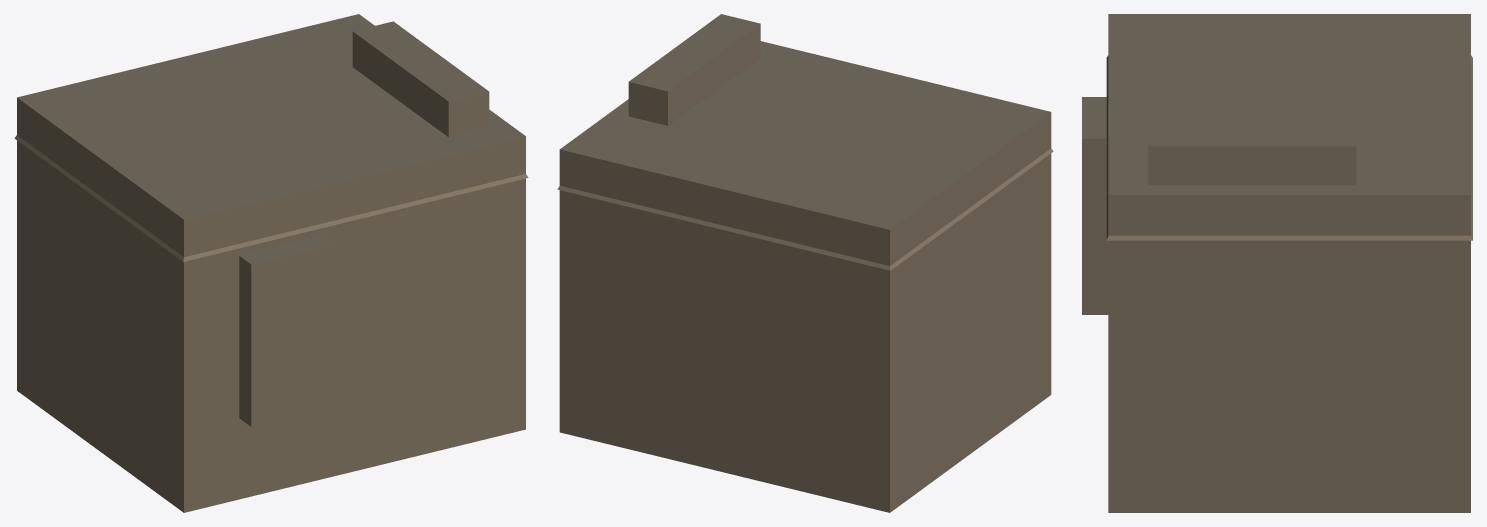
File: ns-mansard-flats.far-facades-v3.lod2.glb
3 renders of one model, left to right at view 1: azimuth 30°, elevation 25°; view 2: azimuth 150°, elevation 25°; view 3: azimuth 270°, elevation 25°, orthographic. The views are drawn at different scales.
Parts seen in each view (by area): view 1: ns-mansard-flats; view 2: ns-mansard-flats; view 3: ns-mansard-flats.
Part boxes in pixels (x1,y1,x2,y2): ns-mansard-flats: (14,14,528,512); ns-mansard-flats: (557,14,1053,512); ns-mansard-flats: (1082,14,1472,512).
Bounding box in the file's own units: 13.12 × 11.95 × 11.86.
